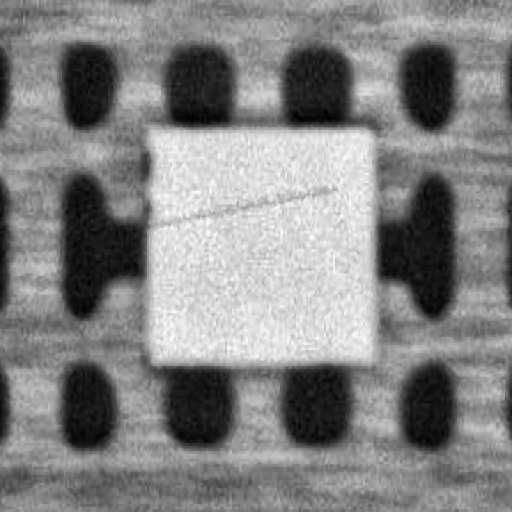DIE_CRACK: (220, 124, 502, 149)
